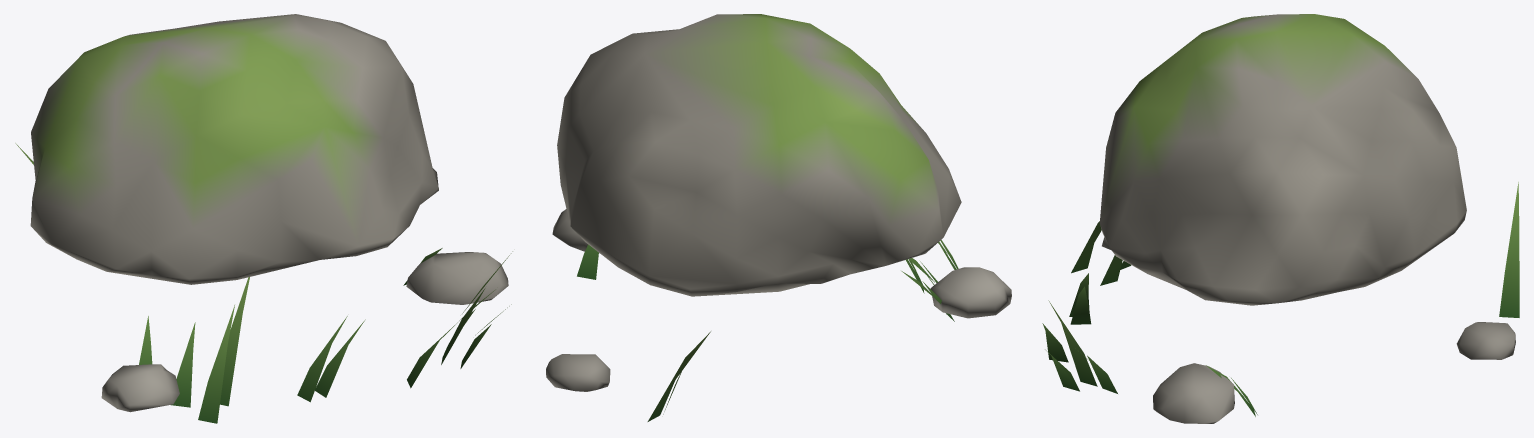
File: piedra_lod.glb
The picture shows the model from 3 angles, left to right: view 1: azimuth 30°, elevation 25°; view 2: azimuth 150°, elevation 25°; view 3: azimuth 270°, elevation 25°; orthographic projection. The views are drawn at different scales.
Parts seen in each view (by area): view 1: piedra_malla; view 2: piedra_malla; view 3: piedra_malla.
Part boxes in pixels (x1=…): piedra_malla: x1=15, y1=14, x2=512, y2=423; piedra_malla: x1=546, y1=14, x2=1011, y2=421; piedra_malla: x1=1042, y1=14, x2=1519, y2=423.
Size of the model in its own units: 0.6957 by 0.4631 by 0.6894.
